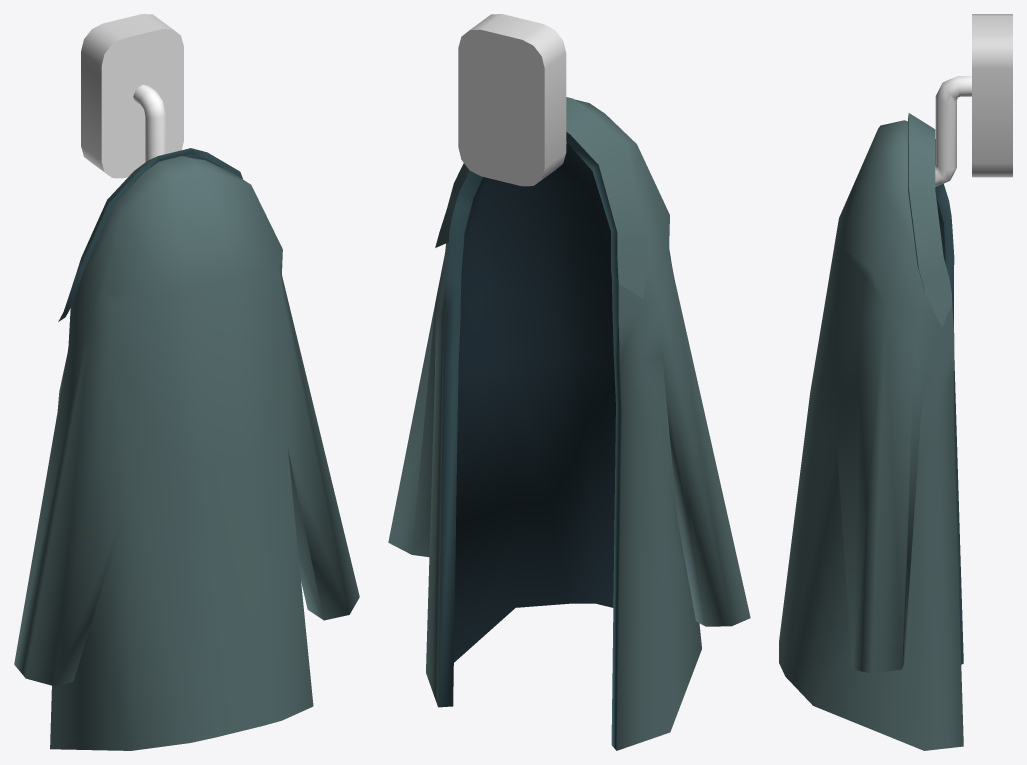
Rendered from test_wallhanger1.fbx.
3 views of the same model, side by side, from view 1: azimuth 30°, elevation 25°; view 2: azimuth 150°, elevation 25°; view 3: azimuth 270°, elevation 25° (orthographic). The views are drawn at different scales.
Parts seen in each view (by area): view 1: Plane.003; view 2: Plane.003; view 3: Plane.003.
Boxes of the visible parts, bbox=[...] form: Plane.003: bbox=[14, 14, 359, 750]; Plane.003: bbox=[388, 14, 750, 750]; Plane.003: bbox=[779, 14, 1012, 750].
Bounding box in the file's own units: 138 × 268 × 83.55.
